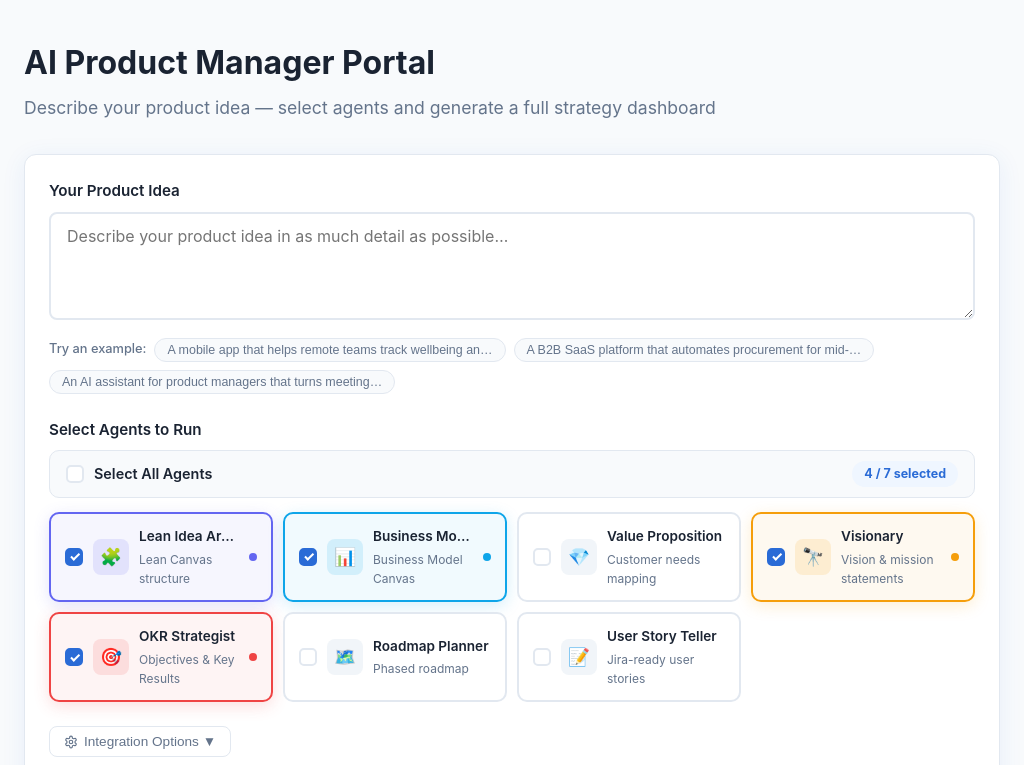
Test: Portal page › enables submit button when idea is filled
Type "An AI expense management app" into the text box with placeholder "Describe your product idea in as much detail as possible…".
click(512, 266); type("An AI expense management app")  # box x1=49 y1=212 x2=975 y2=320
(page scrolled)
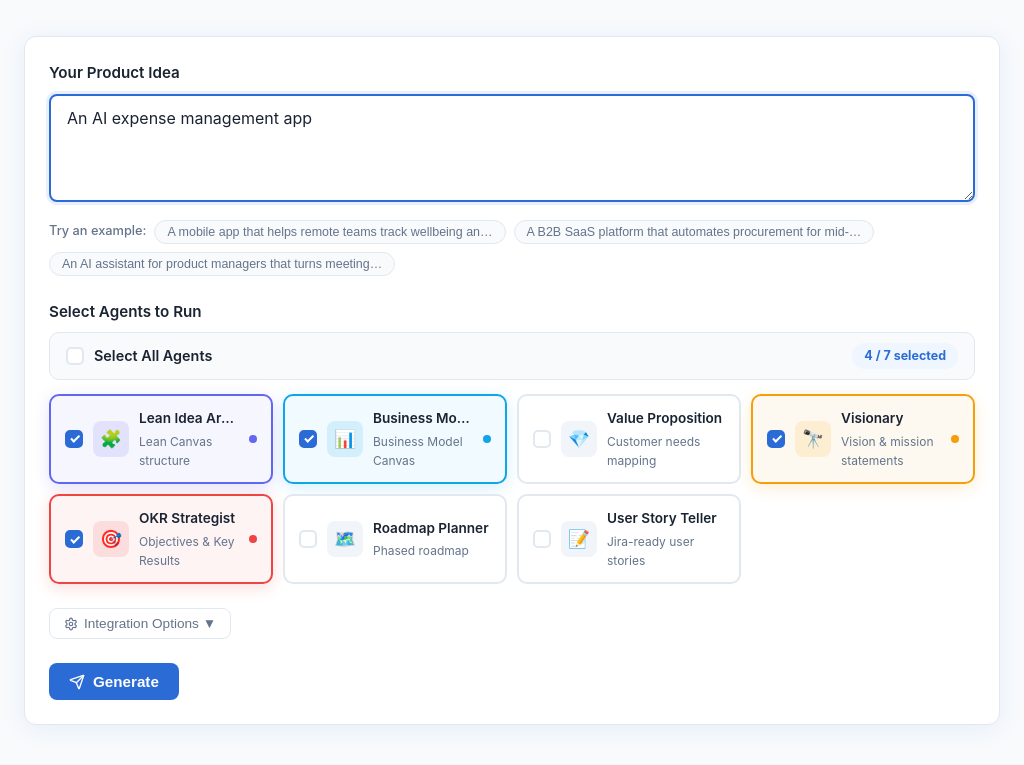
Check: the button "Generate" is enabled, box x1=49 y1=663 x2=179 y2=700
